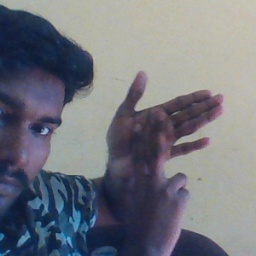N: (98, 67, 225, 197)
